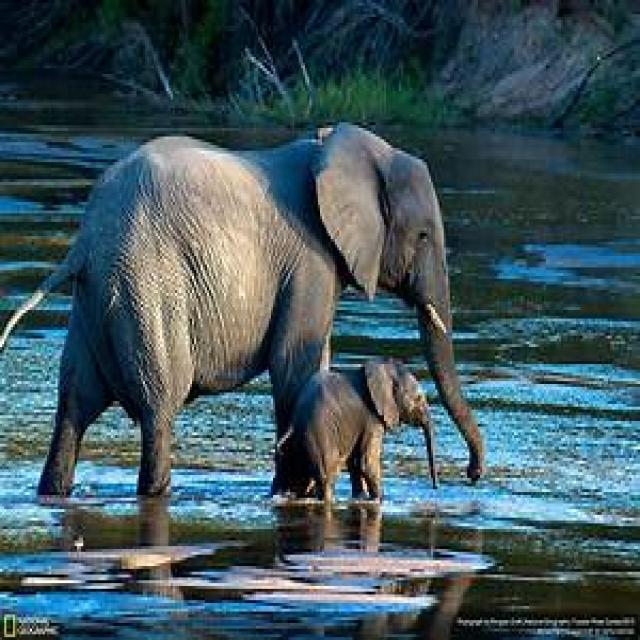elephant: (15, 125, 486, 549), (273, 361, 431, 506)
